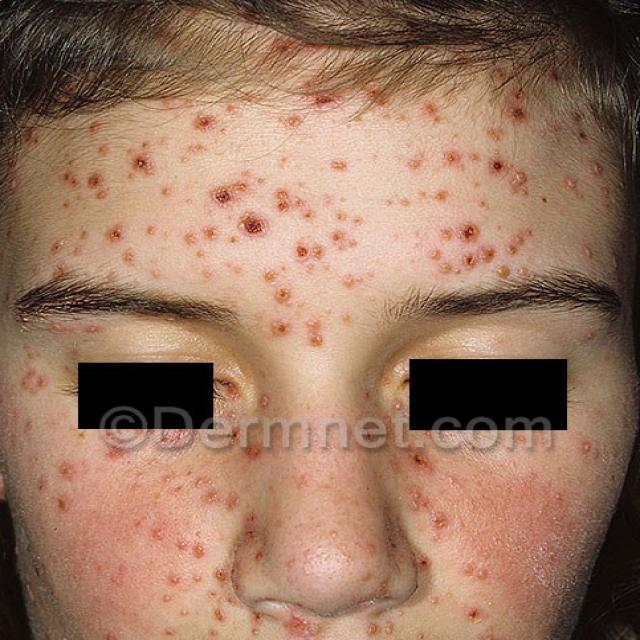Viral Infections: (60, 102, 553, 258), (54, 445, 247, 640), (367, 441, 518, 607), (256, 284, 378, 384)
